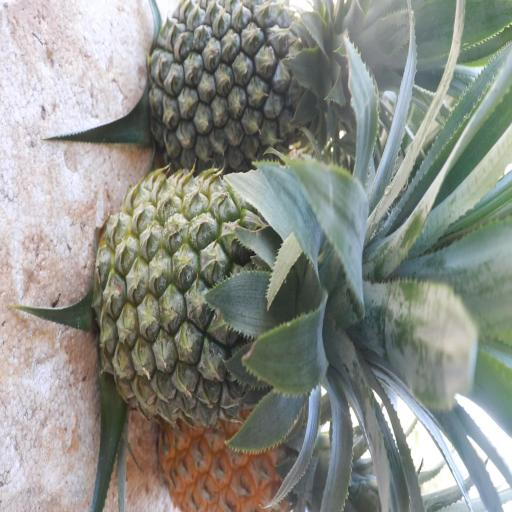------------------------------: (100, 176, 335, 413)
Pineapple - v8 v1: (163, 405, 336, 512)
